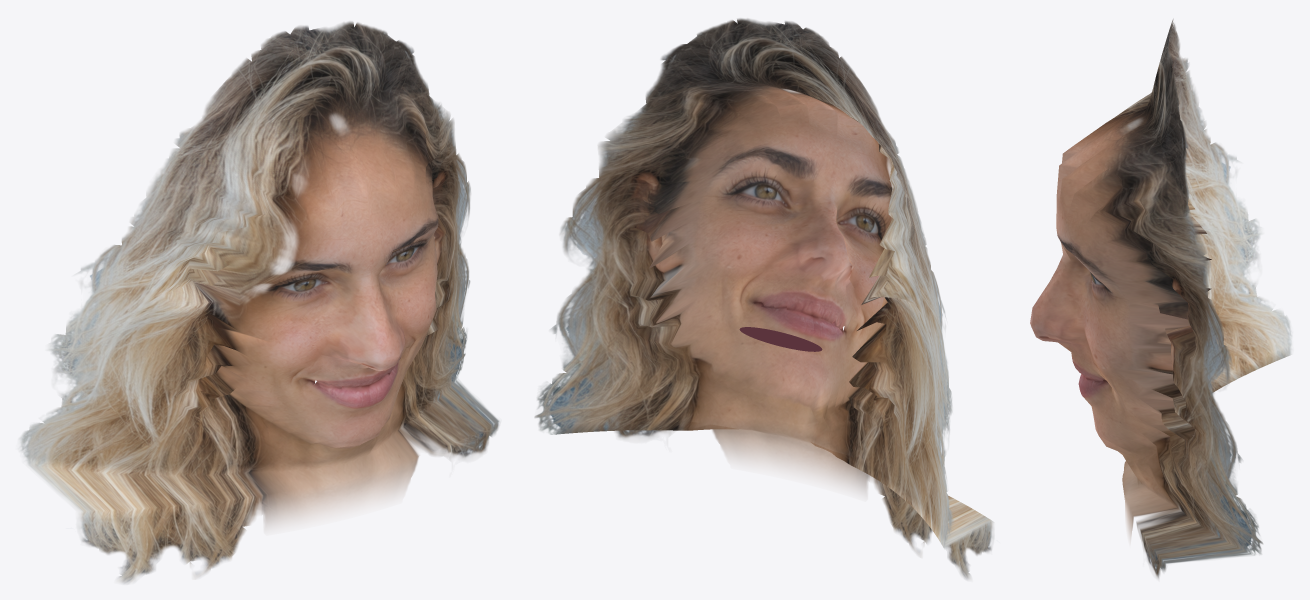
The model's file is nadlan-advisor-v2.glb.
The picture shows the model from 3 angles, left to right: view 1: azimuth 30°, elevation 25°; view 2: azimuth 150°, elevation 25°; view 3: azimuth 270°, elevation 25°; orthographic projection.
Parts seen in each view (by area): view 1: NadLan_Advisor; view 2: NadLan_Advisor, Mouth_cavity; view 3: NadLan_Advisor.
Part boxes in pixels (x1,y1,x2,y2): NadLan_Advisor: (18,21,499,583); NadLan_Advisor: (534,18,994,579); Mouth_cavity: (739,327,822,351); NadLan_Advisor: (1030,19,1292,578).
Size of what is drawn, in the model's own units: 1.26 by 1.44 by 0.6684.
2 materials, 1 textured.
